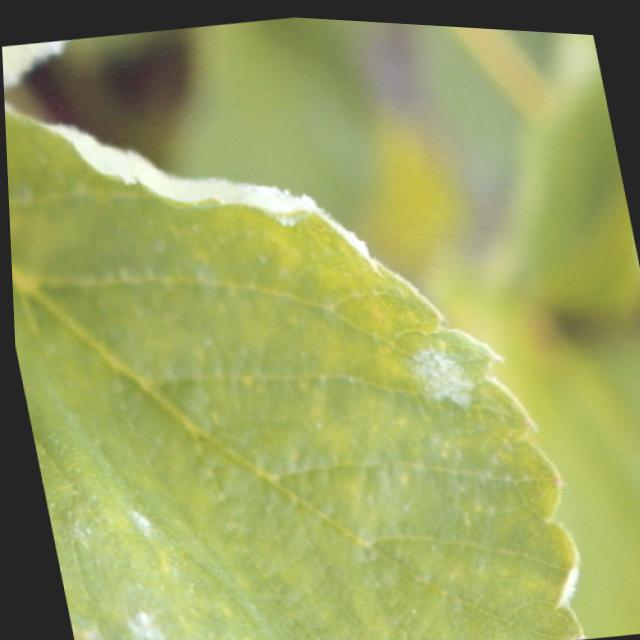Powdery Mildew Leaf: (4, 104, 584, 640), (2, 37, 86, 96)
